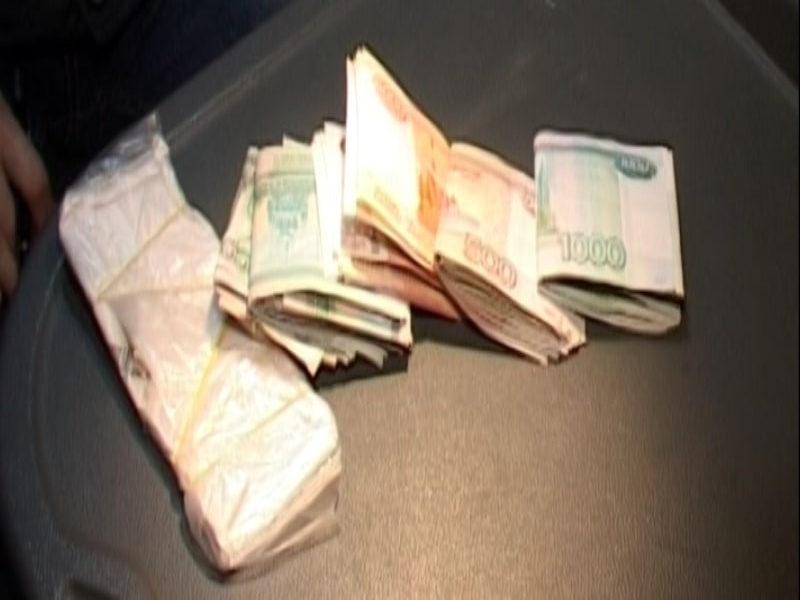cash: (217, 44, 586, 366), (533, 129, 686, 330)
